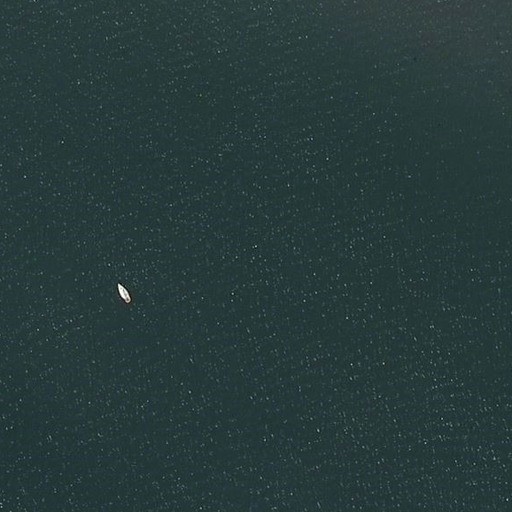ship: (115, 280, 132, 305)
